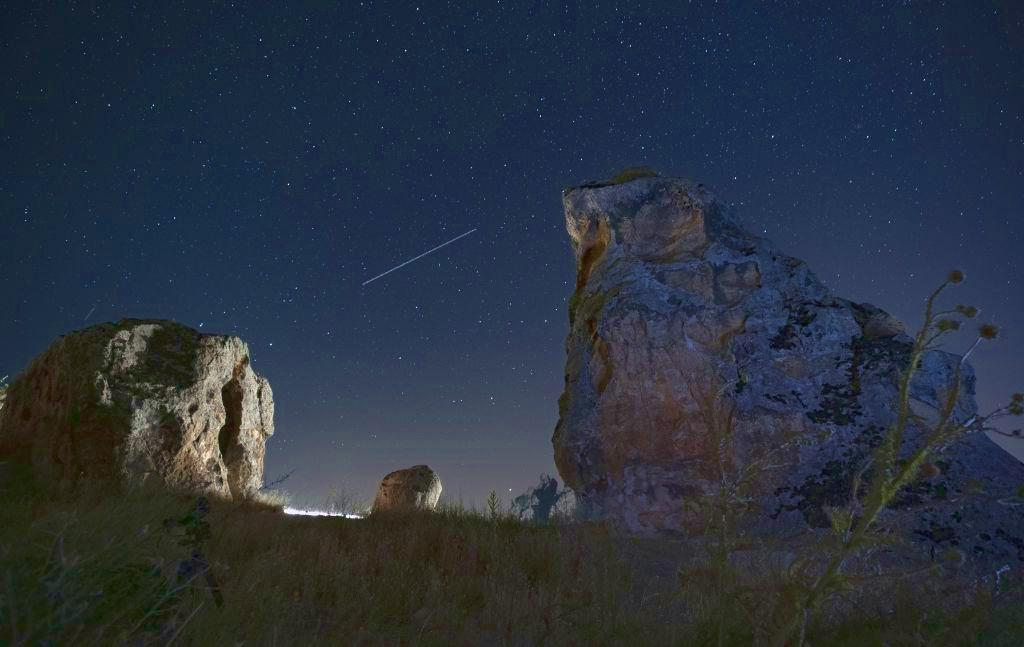meteorite: (346, 219, 494, 295)
